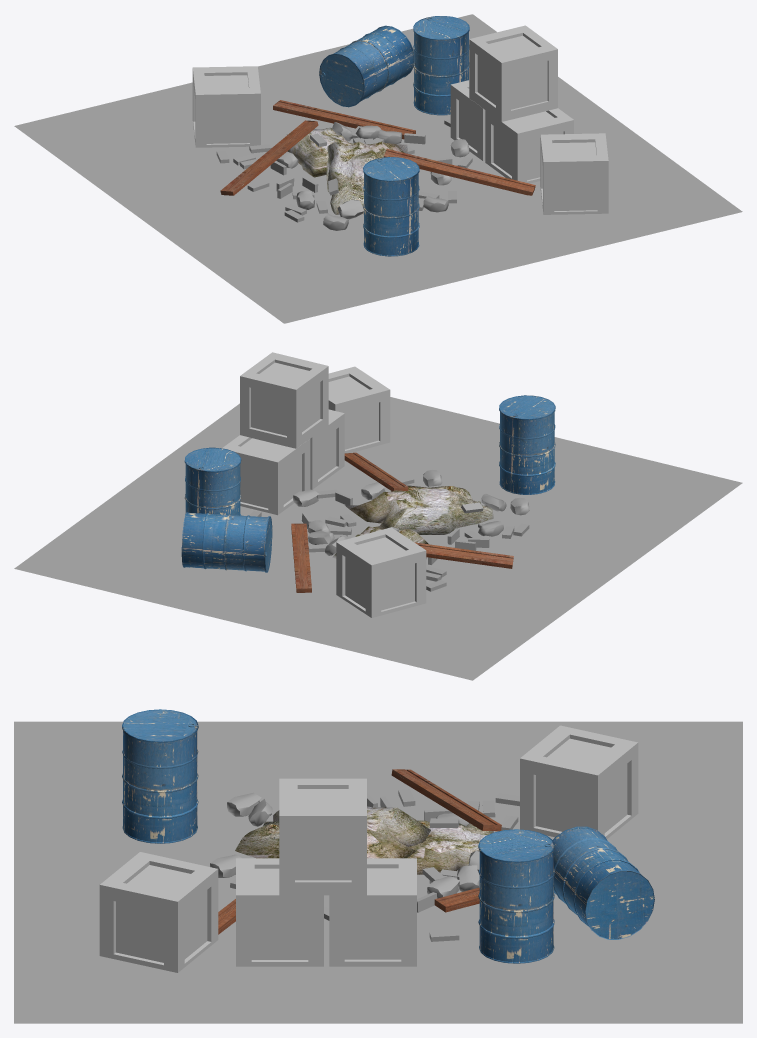
Rendered from Item01.fbx.
3 renders of one model, top to bottom at view 1: azimuth 30°, elevation 25°; view 2: azimuth 150°, elevation 25°; view 3: azimuth 270°, elevation 25°, orthographic. The views are drawn at different scales.
Parts seen in each view (by area): view 1: pPlane1, pCube49, pCube50, pCube51, pCylinder2, pCylinder1, boxxe:pCylinder1, pCube48, pCube2, boxwood:pCube1, pCube4, pCube47 (+2 smaller); view 2: pPlane1, pCube49, pCube51, pCylinder2, pCylinder1, boxwood:pCube1, pCube2, pCube50, boxxe:pCylinder1, pCube48, pCube47, pCube3 (+1 smaller); view 3: pPlane1, pCube50, pCube51, pCube49, boxxe:pCylinder1, pCylinder2, boxwood:pCube1, pCylinder1, pCube48, pCube2, pCube1, pCube47 (+3 smaller).
Boxes of the visible parts, x1=… form: pPlane1: x1=14, y1=14, x2=742, y2=323; pCube49: x1=469, y1=25, x2=557, y2=121; pCube50: x1=540, y1=133, x2=608, y2=214; pCube51: x1=192, y1=66, x2=260, y2=147; pCylinder2: x1=363, y1=157, x2=419, y2=256; pCylinder1: x1=319, y1=25, x2=413, y2=107; boxxe:pCylinder1: x1=413, y1=16, x2=469, y2=115; pCube48: x1=485, y1=108, x2=573, y2=183; pCube2: x1=326, y1=141, x2=407, y2=214; boxwood:pCube1: x1=450, y1=80, x2=485, y2=161; pCube4: x1=384, y1=149, x2=535, y2=195; pCube47: x1=220, y1=120, x2=318, y2=195; pPlane1: x1=14, y1=397, x2=742, y2=680; pCube49: x1=240, y1=352, x2=328, y2=448; pCube51: x1=336, y1=527, x2=426, y2=617; pCylinder2: x1=499, y1=395, x2=555, y2=494; pCylinder1: x1=181, y1=512, x2=272, y2=572; boxwood:pCube1: x1=222, y1=435, x2=310, y2=515; pCube2: x1=345, y1=485, x2=493, y2=534; pCube50: x1=328, y1=366, x2=390, y2=453; boxxe:pCylinder1: x1=184, y1=447, x2=241, y2=515; pCube48: x1=310, y1=409, x2=344, y2=489; pCube47: x1=414, y1=542, x2=513, y2=568; pCube3: x1=291, y1=523, x2=311, y2=592; pPlane1: x1=14, y1=721, x2=742, y2=1023; pCube50: x1=99, y1=852, x2=218, y2=972; pCube51: x1=520, y1=725, x2=638, y2=838; pCube49: x1=279, y1=778, x2=366, y2=895; boxxe:pCylinder1: x1=478, y1=829, x2=554, y2=963; pCylinder2: x1=122, y1=709, x2=198, y2=843; boxwood:pCube1: x1=329, y1=858, x2=416, y2=966; pCylinder1: x1=553, y1=826, x2=654, y2=939; pCube48: x1=236, y1=858, x2=323, y2=966; pCube2: x1=235, y1=806, x2=430, y2=858; pCube1: x1=407, y1=820, x2=493, y2=874; pCube47: x1=391, y1=769, x2=501, y2=831.
Size of the model in its own units: 34.3 by 9.23 by 35.
